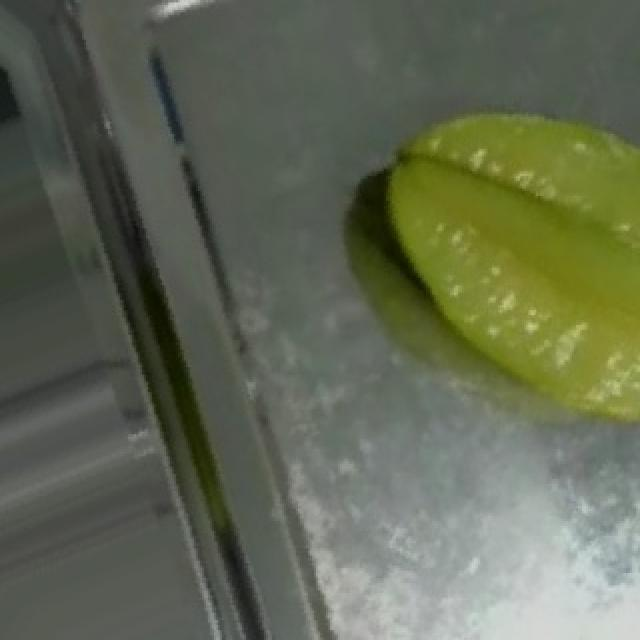fruit: (338, 62, 640, 451)
